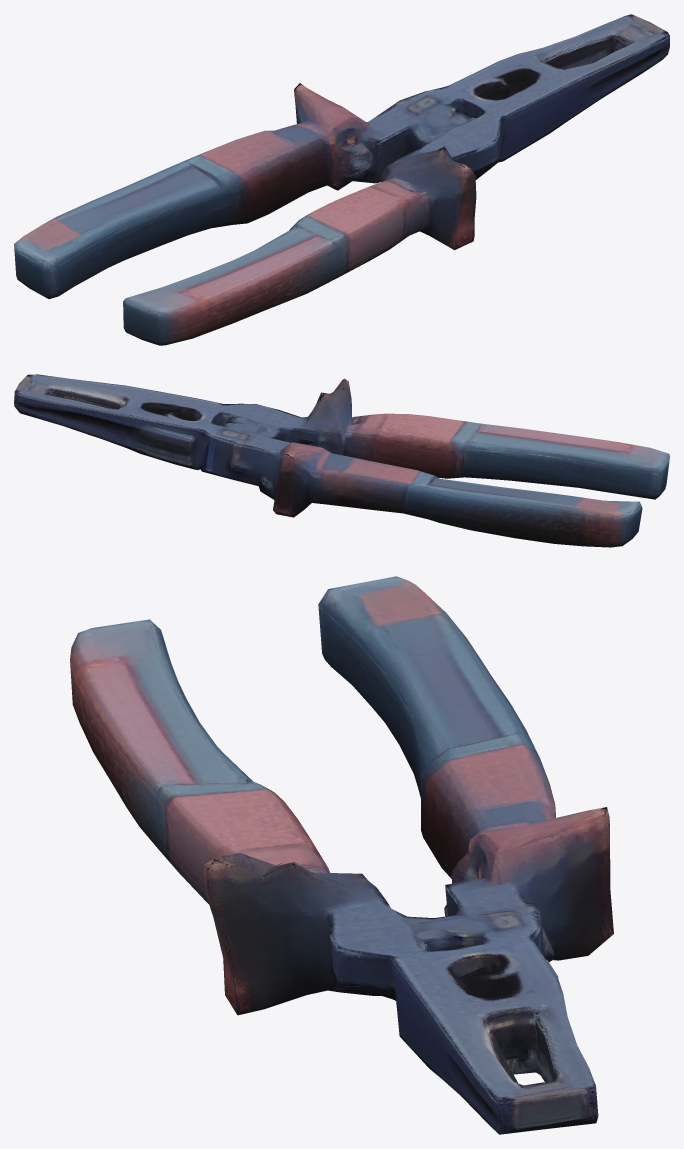
The model's file is obj03_baseline.glb.
The picture shows the model from 3 angles, top to bottom: view 1: azimuth 30°, elevation 25°; view 2: azimuth 150°, elevation 25°; view 3: azimuth 270°, elevation 25°; orthographic projection. The views are drawn at different scales.
Parts seen in each view (by area): view 1: n1; view 2: n1; view 3: n1.
Boxes of the visible parts, <box> form: n1: <box>14,14,669,345</box>; n1: <box>14,374,669,547</box>; n1: <box>70,576,613,1134</box>.
Size of the model in its own units: 0.9038 by 0.1202 by 0.3692.
1 material, 1 textured.
